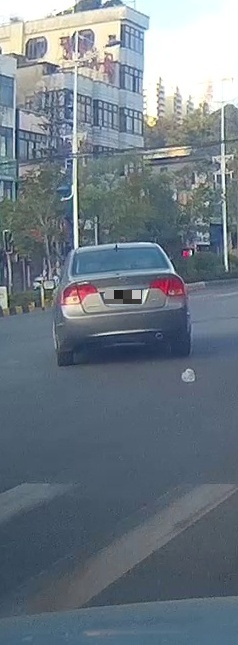L_light: (60, 284, 99, 305)
R_light: (149, 276, 185, 296)
T_light: (110, 247, 125, 251)
day-left: (53, 242, 192, 367)
plate_1: (105, 290, 142, 304)
